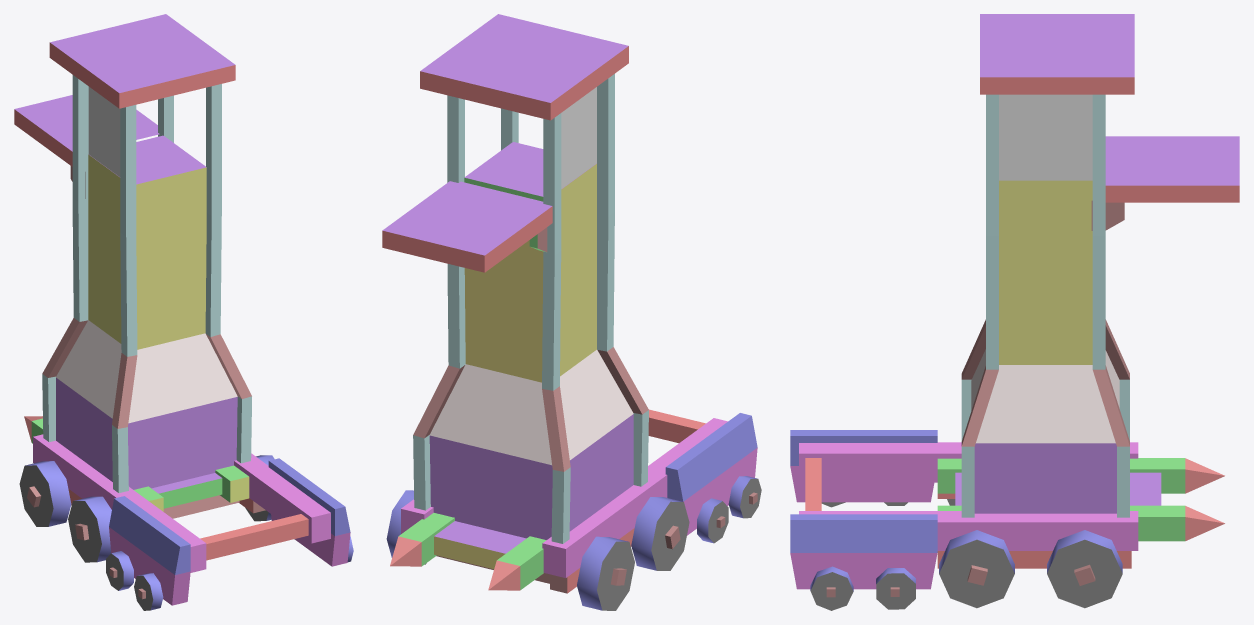
Rendered from Old_War_s__Belfry_01.gltf.
The picture shows the model from 3 angles, left to right: view 1: azimuth 30°, elevation 25°; view 2: azimuth 150°, elevation 25°; view 3: azimuth 270°, elevation 25°; orthographic projection. The views are drawn at different scales.
Parts seen in each view (by area): view 1: Belfry_01; view 2: Belfry_01; view 3: Belfry_01.
Part boxes in pixels (bbox=[...]): Belfry_01: bbox=[14, 14, 353, 610]; Belfry_01: bbox=[382, 14, 761, 610]; Belfry_01: bbox=[790, 14, 1239, 610].
Bounding box in the file's own units: 1.92 × 4.05 × 3.22.
